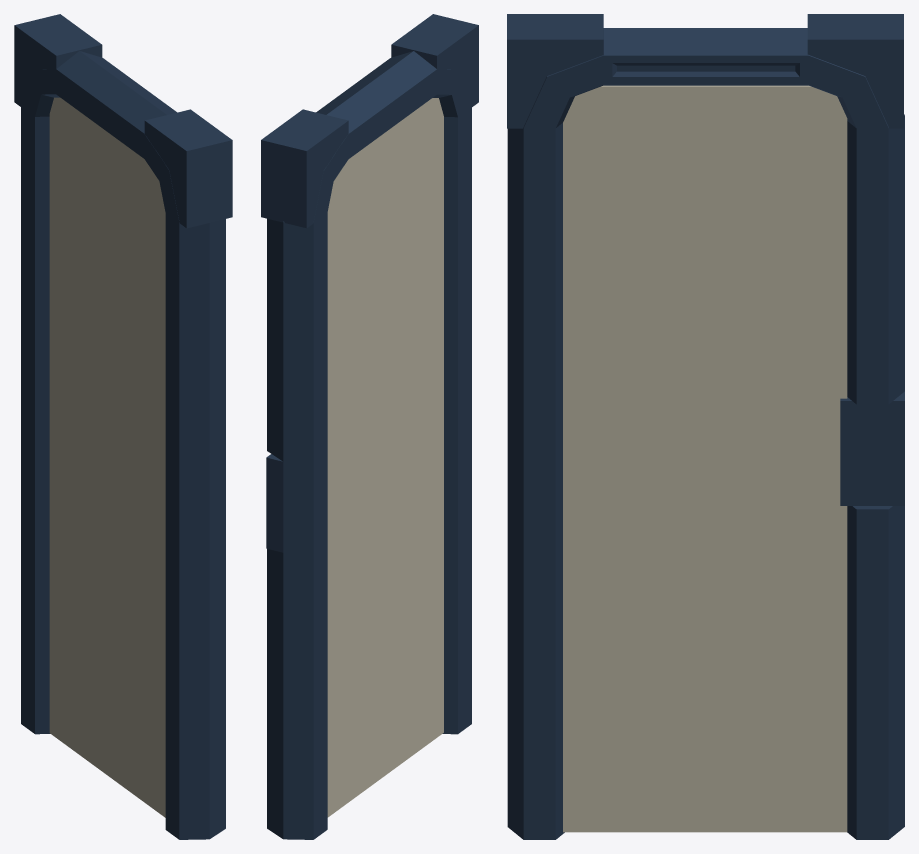
The model's file is ScifiDoorAnimated.fbx.
The picture shows the model from 3 angles, left to right: view 1: azimuth 30°, elevation 25°; view 2: azimuth 150°, elevation 25°; view 3: azimuth 270°, elevation 25°; orthographic projection. The views are drawn at different scales.
Visible parts, largest first — view 1: SlidingDoor, Doorframe1; view 2: SlidingDoor, Doorframe1; view 3: SlidingDoor, Doorframe1.
Boxes of the visible parts, bbox=[...] form: SlidingDoor: bbox=[49, 97, 165, 817]; Doorframe1: bbox=[14, 14, 232, 839]; SlidingDoor: bbox=[327, 98, 443, 817]; Doorframe1: bbox=[261, 14, 478, 839]; SlidingDoor: bbox=[563, 85, 847, 832]; Doorframe1: bbox=[507, 14, 904, 839].
Size of the model in its own units: 0.1402 by 2 by 0.8996.
